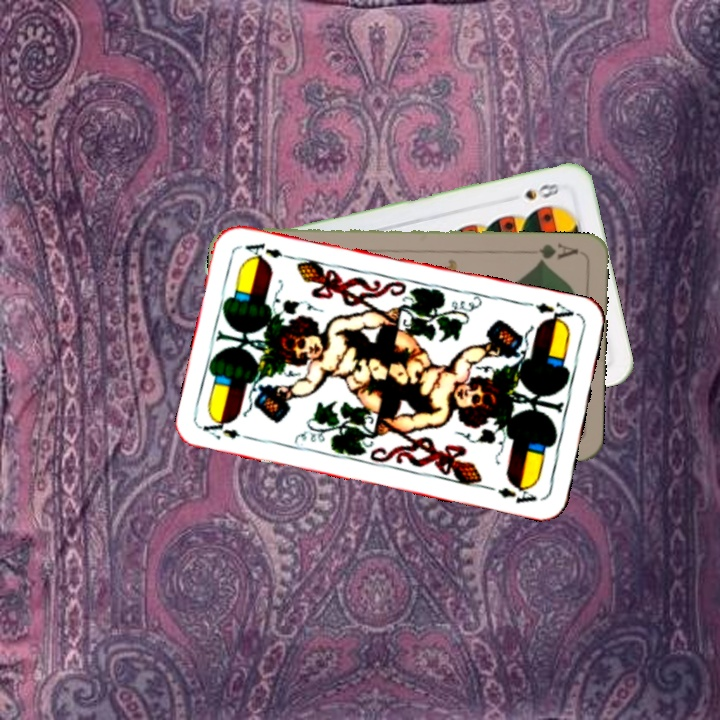EA: (199, 415, 257, 443), (531, 298, 576, 328)
GA: (523, 239, 581, 266)
S8: (521, 179, 562, 203)
